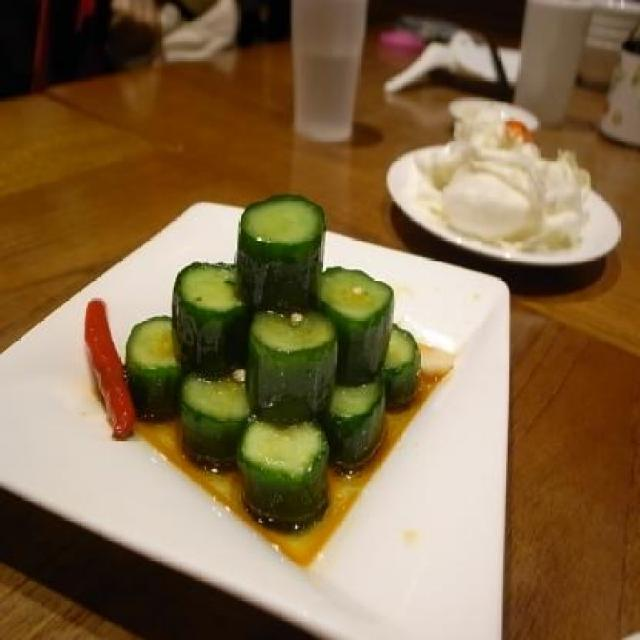Cucumber: (127, 192, 424, 526), (376, 324, 422, 406)
